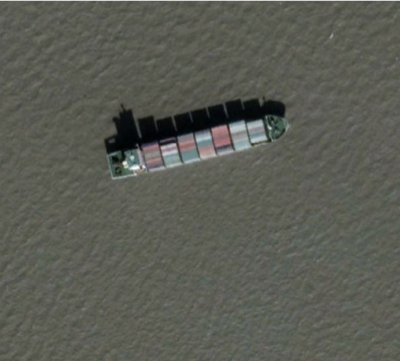boat: (104, 98, 291, 180)
